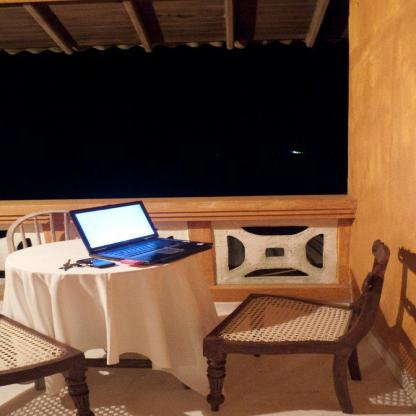board: (72, 198, 217, 266)
